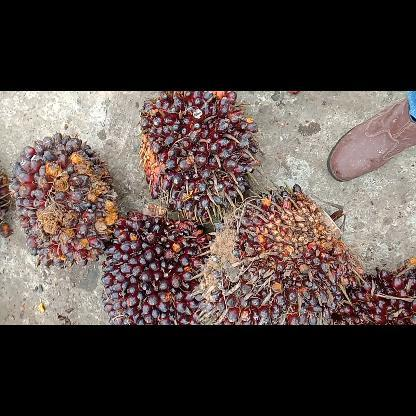Kurang masak: (192, 180, 370, 324), (4, 130, 126, 270), (136, 93, 262, 225), (100, 204, 214, 324)
